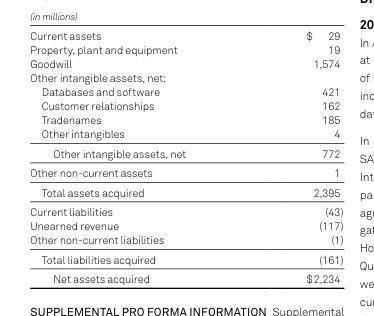table: (29, 28, 342, 284)
table column: (29, 28, 245, 284), (245, 28, 342, 284)
table projected row header: (29, 70, 342, 84)
table row: (29, 162, 342, 182), (29, 143, 342, 162), (29, 182, 342, 201), (29, 249, 342, 268), (29, 126, 342, 143), (29, 201, 342, 218), (29, 232, 342, 249), (29, 268, 342, 284), (29, 28, 342, 42), (29, 42, 342, 56), (29, 56, 342, 70), (29, 70, 342, 84), (29, 84, 342, 98), (29, 98, 342, 112), (29, 112, 342, 126), (29, 218, 342, 232)
